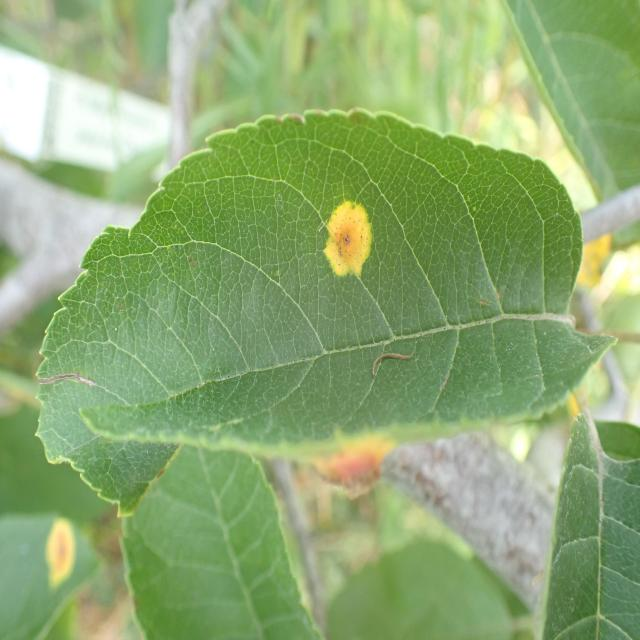rust: (31, 106, 617, 520)
